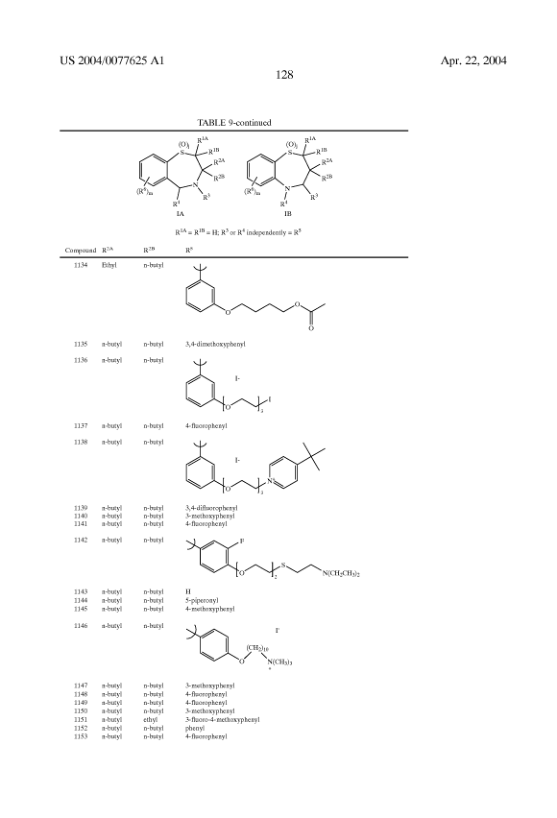compound-structure: (183, 263, 331, 338), (181, 531, 366, 587), (128, 133, 234, 219), (182, 437, 326, 496), (245, 133, 342, 220), (174, 619, 302, 675), (178, 350, 280, 420)
